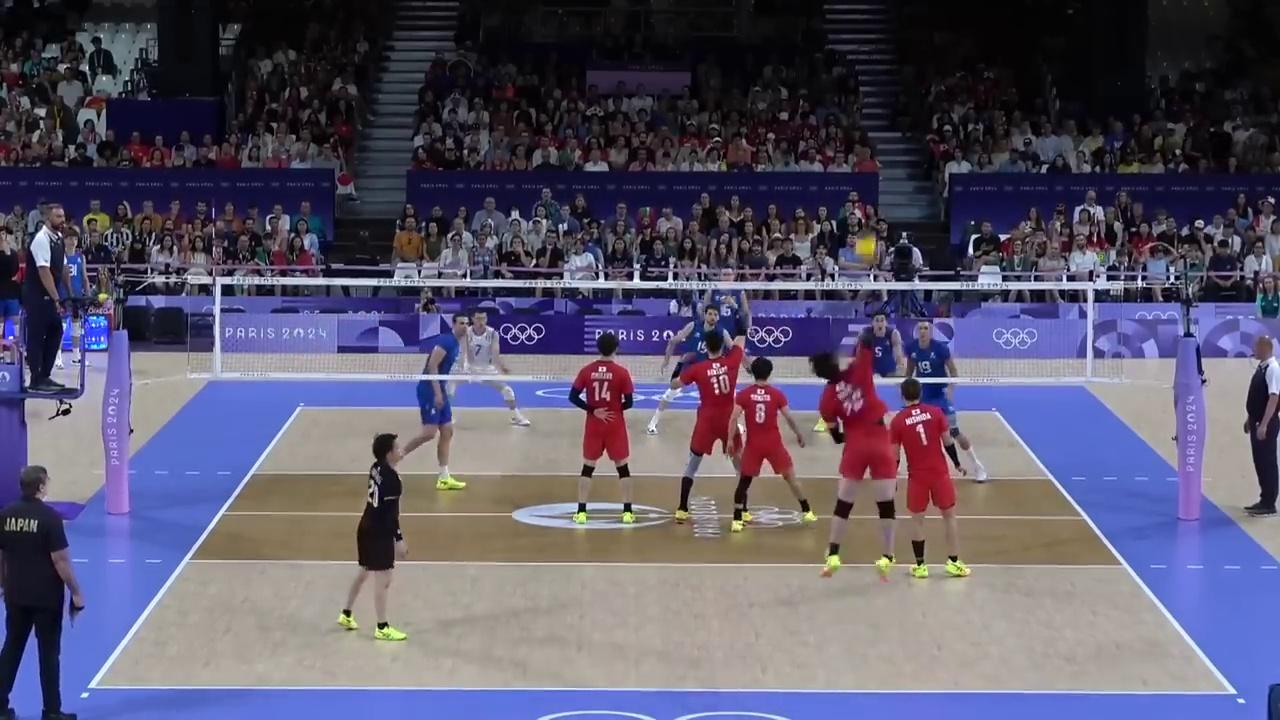ball: (855, 233, 877, 258)
